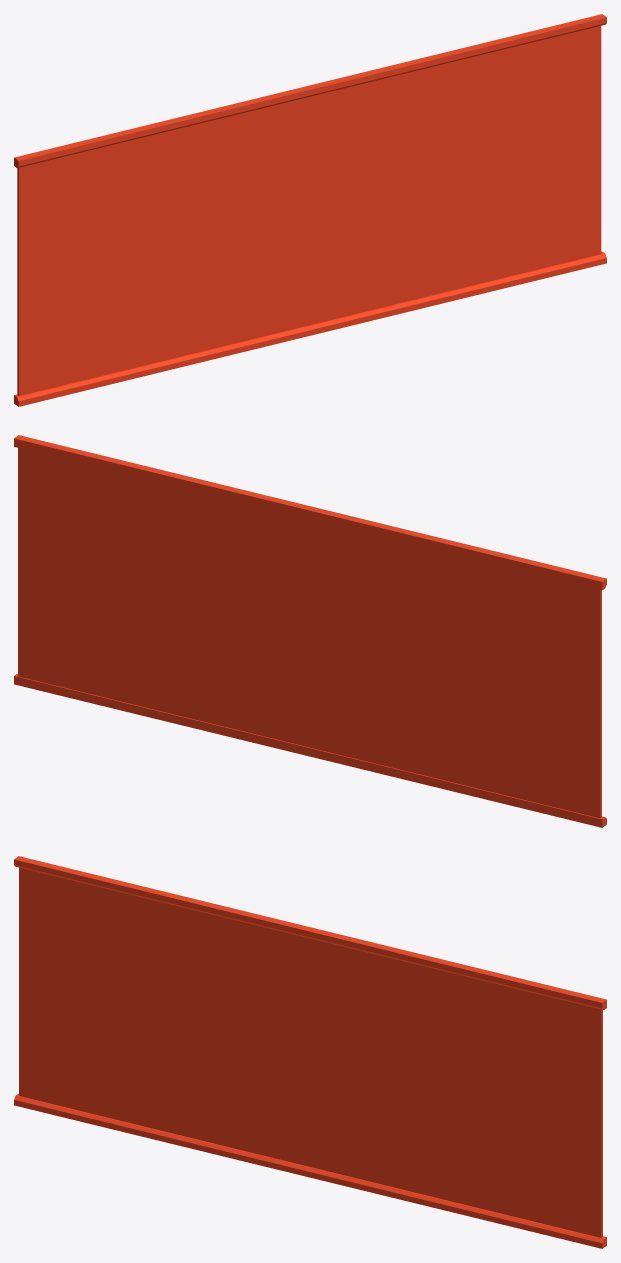
The model's file is SM_Billboard_Coffee_City.fbx.
3 renders of one model, top to bottom at view 1: azimuth 30°, elevation 25°; view 2: azimuth 150°, elevation 25°; view 3: azimuth 330°, elevation 25°, orthographic.
Visible parts, largest first — view 1: SM_Billboard_Coffee_City; view 2: SM_Billboard_Coffee_City; view 3: SM_Billboard_Coffee_City.
Part boxes in pixels (bbox=[...]): SM_Billboard_Coffee_City: bbox=[14, 14, 606, 406]; SM_Billboard_Coffee_City: bbox=[14, 435, 606, 827]; SM_Billboard_Coffee_City: bbox=[14, 856, 606, 1248].
Size of the model in its own units: 5.8 by 2.32 by 0.0794.
